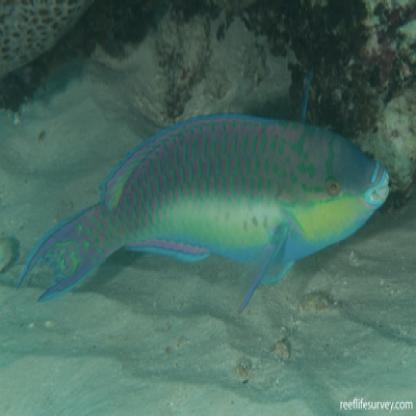Scaridae -Parrotfishes-: (13, 73, 393, 319)
